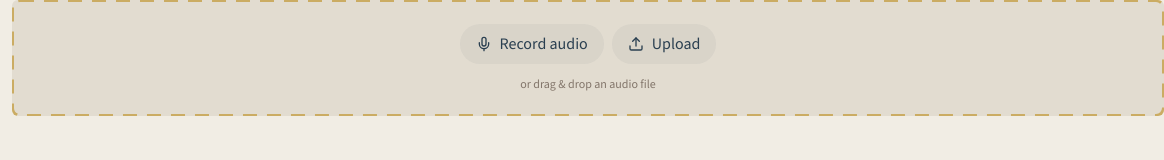
Test: Sounds microphone recording › handles denied microphone permission without selecting a file
Step 1. Click the button "Record audio" → coordinates (532, 44), box [460, 24, 604, 64]
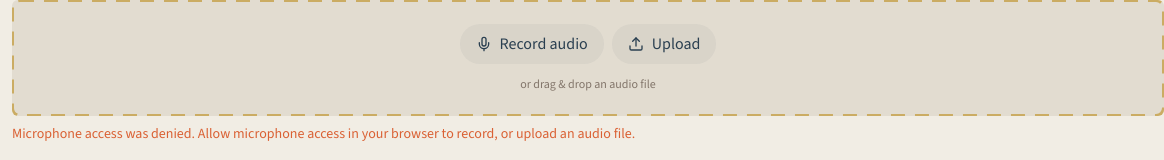
Now the message shows "Microphone access was denied", box [12, 124, 635, 143]
